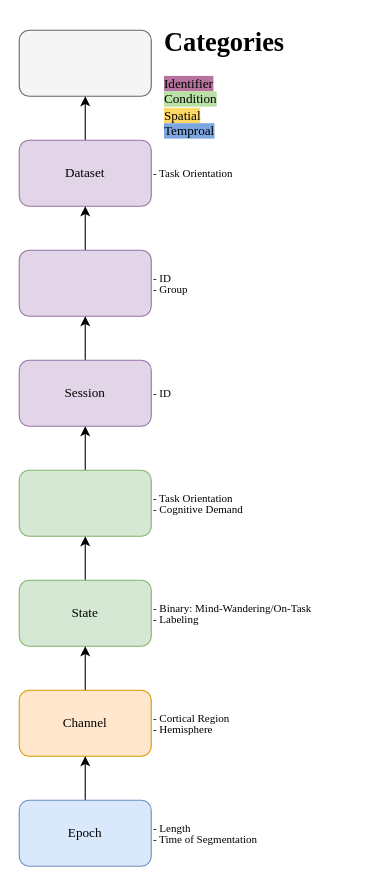
Some shapes in this 380 by 886 pixel diagram are drawn without their labels. The shapes that lost their labels are listed below. From the top down, each one's box as (x1, y1, x2, y2) in pixels, then its label:
(18, 29, 151, 96): Analysis
(18, 249, 151, 316): Subject
(18, 469, 151, 536): Task
